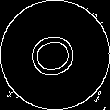O_E: (25, 28, 85, 82)
